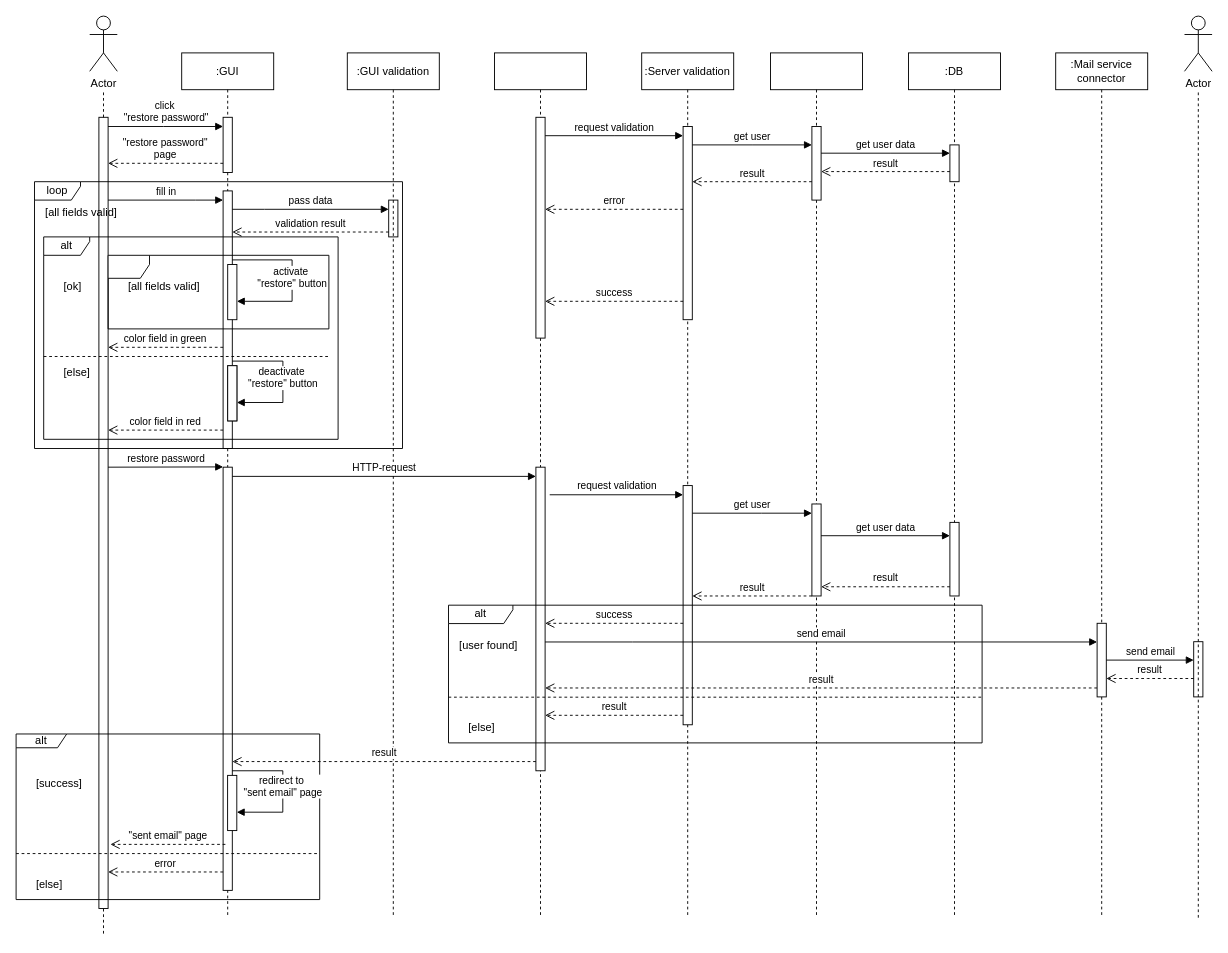
This 1228x953 diagram has some shape labels left out. Here are the shapes that lost their labels. From the top down, the centre of each, then its label:
(x=218, y=291): opt
(x=540, y=485): :Command handler
(x=816, y=485): :DB connector
